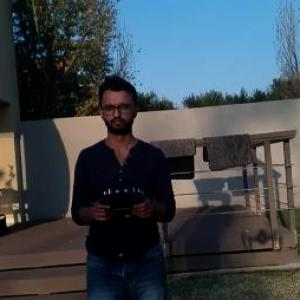follow: (68, 66, 182, 299)
